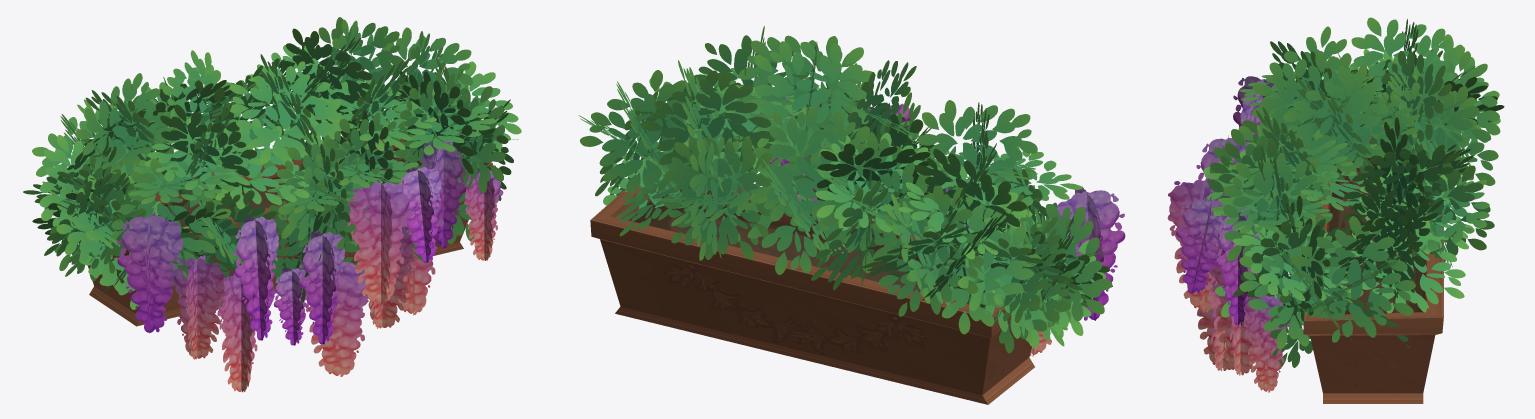
File: SM_PROP_plant_pot_city_10.fbx
The picture shows the model from 3 angles, left to right: view 1: azimuth 30°, elevation 25°; view 2: azimuth 150°, elevation 25°; view 3: azimuth 270°, elevation 25°; orthographic projection. The views are drawn at different scales.
Parts seen in each view (by area): view 1: SM_PROP_plant_pot_city_10_foliage, SM_PROP_plant_pot_city_10; view 2: SM_PROP_plant_pot_city_10_foliage, SM_PROP_plant_pot_city_10; view 3: SM_PROP_plant_pot_city_10_foliage, SM_PROP_plant_pot_city_10.
Boxes of the visible parts, x1,y1,x2,y2 form: SM_PROP_plant_pot_city_10_foliage: (23, 17, 521, 392); SM_PROP_plant_pot_city_10: (88, 135, 492, 326); SM_PROP_plant_pot_city_10_foliage: (578, 26, 1125, 356); SM_PROP_plant_pot_city_10: (590, 176, 1044, 404); SM_PROP_plant_pot_city_10_foliage: (1167, 17, 1504, 392); SM_PROP_plant_pot_city_10: (1303, 136, 1443, 403).
Size of the model in its own units: 177 by 112 by 109.
